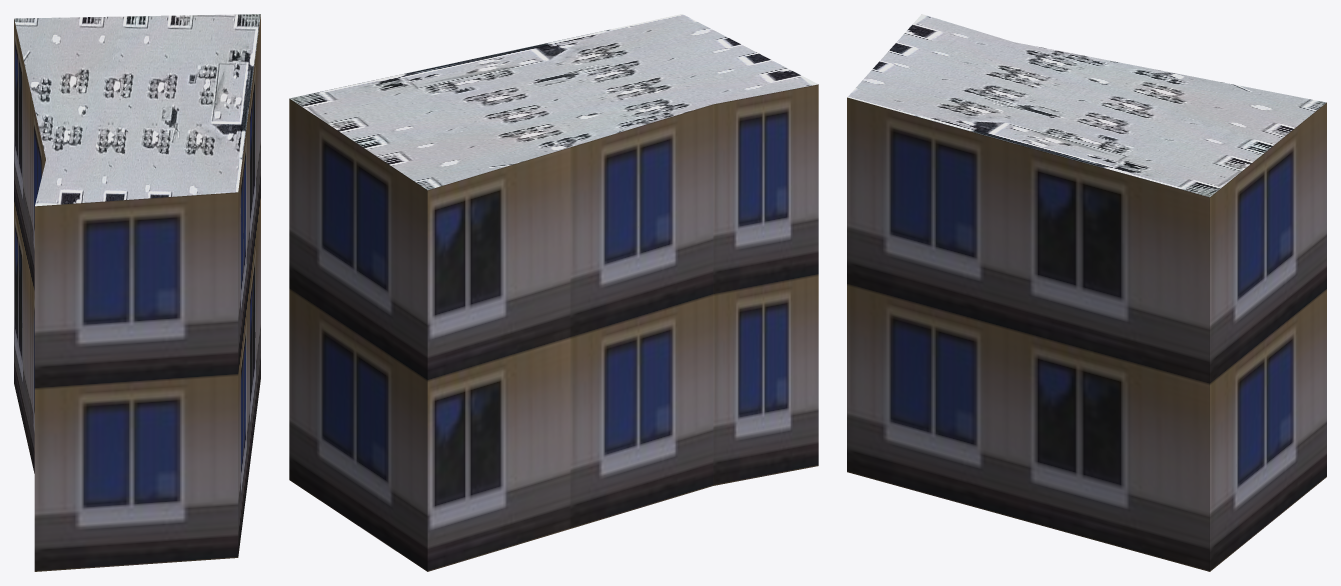
File: ResTex__4373.fbx
The picture shows the model from 3 angles, left to right: view 1: azimuth 30°, elevation 25°; view 2: azimuth 150°, elevation 25°; view 3: azimuth 270°, elevation 25°; orthographic projection. The views are drawn at different scales.
Parts seen in each view (by area): view 1: CityEngineMaterial_5_m, CityEngineMaterial_m; view 2: CityEngineMaterial_5_m, CityEngineMaterial_m; view 3: CityEngineMaterial_5_m, CityEngineMaterial_m.
Boxes of the visible parts, left/top/right/bottom form: CityEngineMaterial_5_m: left=14, top=14, right=260, bottom=571; CityEngineMaterial_m: left=14, top=14, right=260, bottom=206; CityEngineMaterial_5_m: left=289, top=84, right=818, bottom=571; CityEngineMaterial_m: left=289, top=14, right=817, bottom=190; CityEngineMaterial_5_m: left=847, top=97, right=1326, bottom=571; CityEngineMaterial_m: left=847, top=14, right=1326, bottom=197.
Bounding box in the file's own units: 6.3 × 6 × 6.96.
2 materials, 2 textured.
